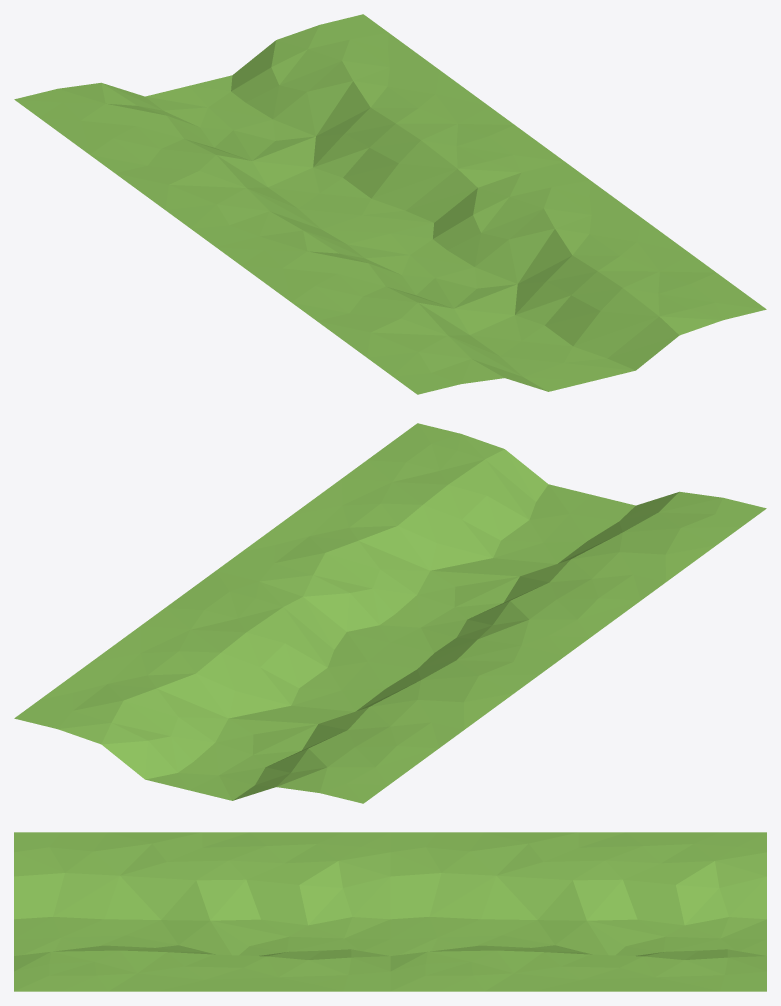
File: MT_River_S_a_04.fbx
3 views of the same model, one above another, from view 1: azimuth 30°, elevation 25°; view 2: azimuth 150°, elevation 25°; view 3: azimuth 270°, elevation 25° (orthographic). The views are drawn at different scales.
Parts seen in each view (by area): view 1: MT_River_S_a_04; view 2: MT_River_S_a_04; view 3: MT_River_S_a_04.
Part boxes in pixels (x1=…): MT_River_S_a_04: x1=14, y1=14, x2=766, y2=394; MT_River_S_a_04: x1=14, y1=423, x2=766, y2=803; MT_River_S_a_04: x1=14, y1=832, x2=766, y2=991.
Bounding box in the file's own units: 2500 × 226 × 5000.
